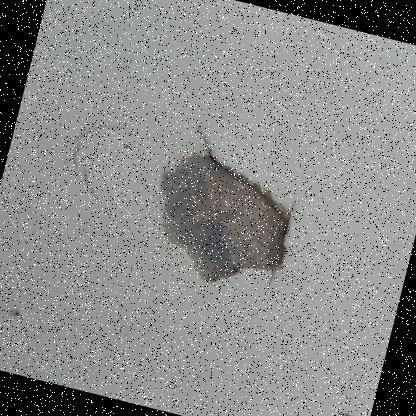Crack: (114, 96, 341, 327), (32, 95, 144, 219), (321, 405, 370, 415)
